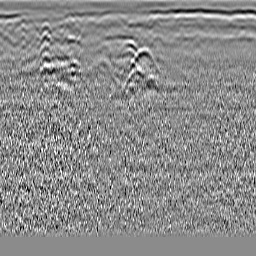cavity: (119, 36, 138, 56)
